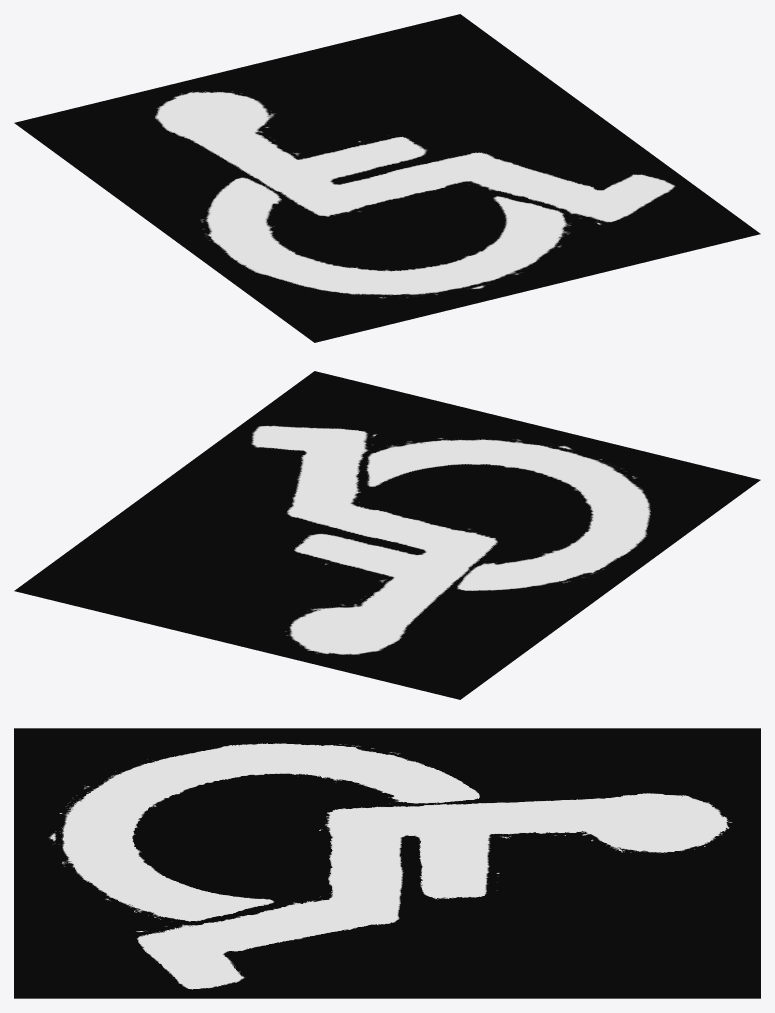
File: TH_Handicap_GRBDecal_v1.fbx
3 views of the same model, one above another, from view 1: azimuth 30°, elevation 25°; view 2: azimuth 150°, elevation 25°; view 3: azimuth 270°, elevation 25° (orthographic). The views are drawn at different scales.
Visible parts, largest first — view 1: pPlane2; view 2: pPlane2; view 3: pPlane2.
Boxes of the visible parts, x1,y1,x2,y2 form: pPlane2: (14,14,760,342); pPlane2: (14,371,760,699); pPlane2: (14,728,760,998).
Bounding box in the file's own units: 204 × 0 × 238.
Materials: 1 (1 with a texture image).
